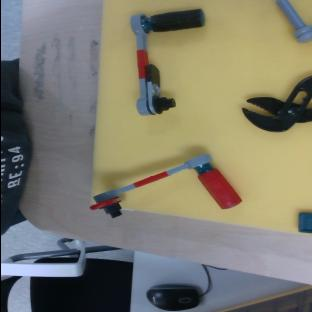non_pass: (129, 9, 206, 115)
pass: (85, 152, 241, 220)
